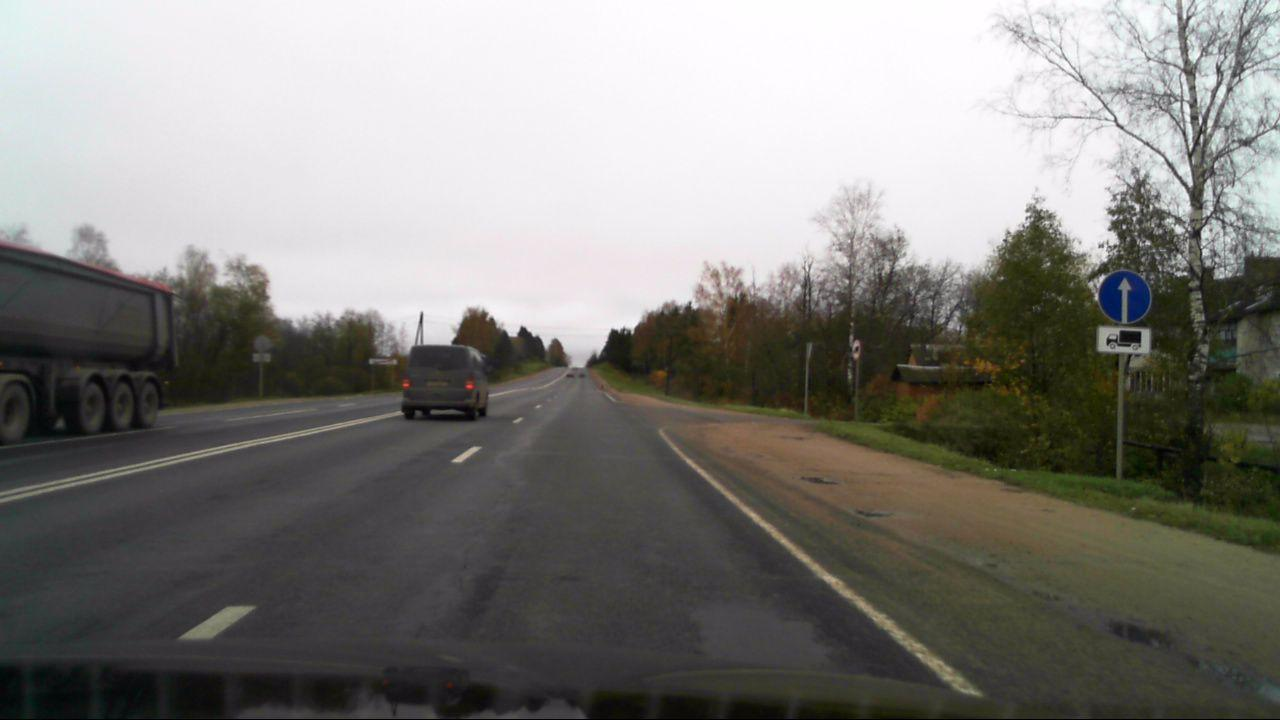3_4: (849, 339, 862, 359)
4_1_1: (1095, 268, 1154, 323)
8_4_1: (1098, 327, 1150, 355)
